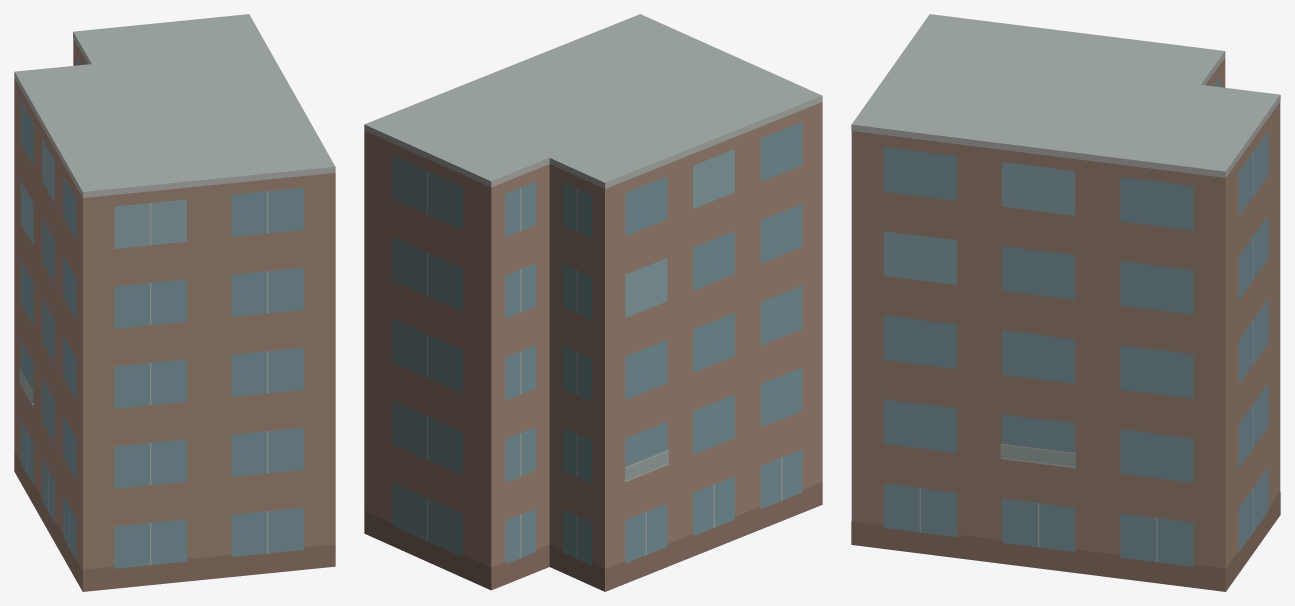
The model's file is survey-upis-32880558.glb.
The picture shows the model from 3 angles, left to right: view 1: azimuth 30°, elevation 25°; view 2: azimuth 150°, elevation 25°; view 3: azimuth 270°, elevation 25°; orthographic projection. The views are drawn at different scales.
Parts seen in each view (by area): view 1: survey-upis-32880558.tmp; view 2: survey-upis-32880558.tmp; view 3: survey-upis-32880558.tmp.
Boxes of the visible parts, x1,y1,x2,y2 form: survey-upis-32880558.tmp: (14, 14, 335, 591); survey-upis-32880558.tmp: (364, 14, 822, 591); survey-upis-32880558.tmp: (851, 14, 1280, 591).
Bounding box in the file's own units: 13 × 16.15 × 14.95.
